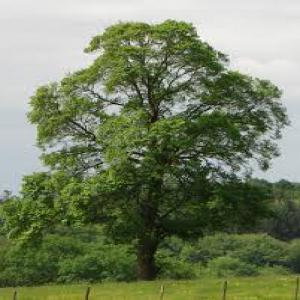Tree: (19, 17, 285, 284)
